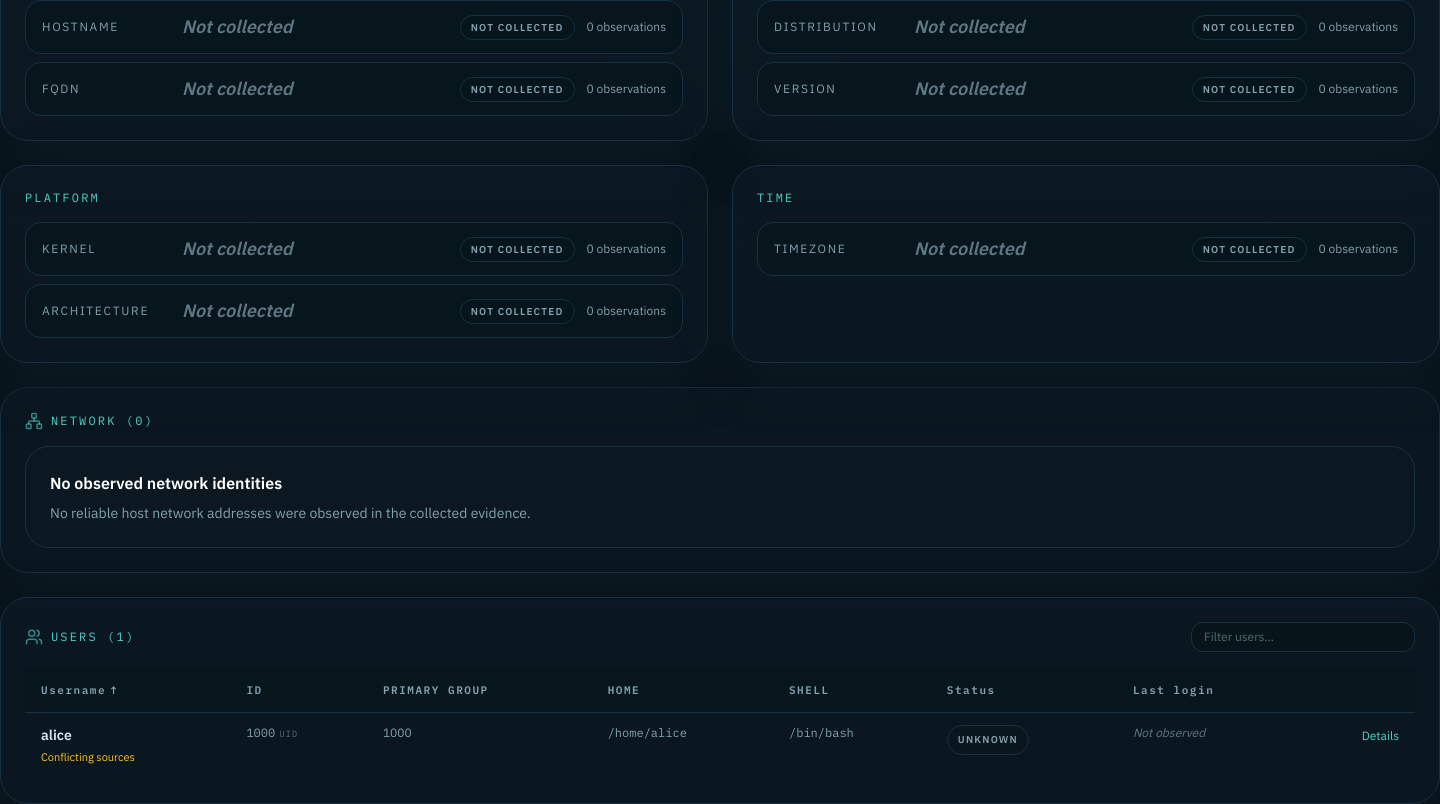
HostInformationPage › User Inventory › expands to show secondary groups and per-field provenance, with conflicts surfaced not hidden
(page scrolled)
Expected: the row with test id "user-row" is shown, [25,712,1415,779]
Expected: the text "Conflicting sources" is shown, [41,750,135,764]
Click the button with test id "user-expand-toggle". click: x=1380, y=736
box: [1362,728,1399,744]
(page scrolled)
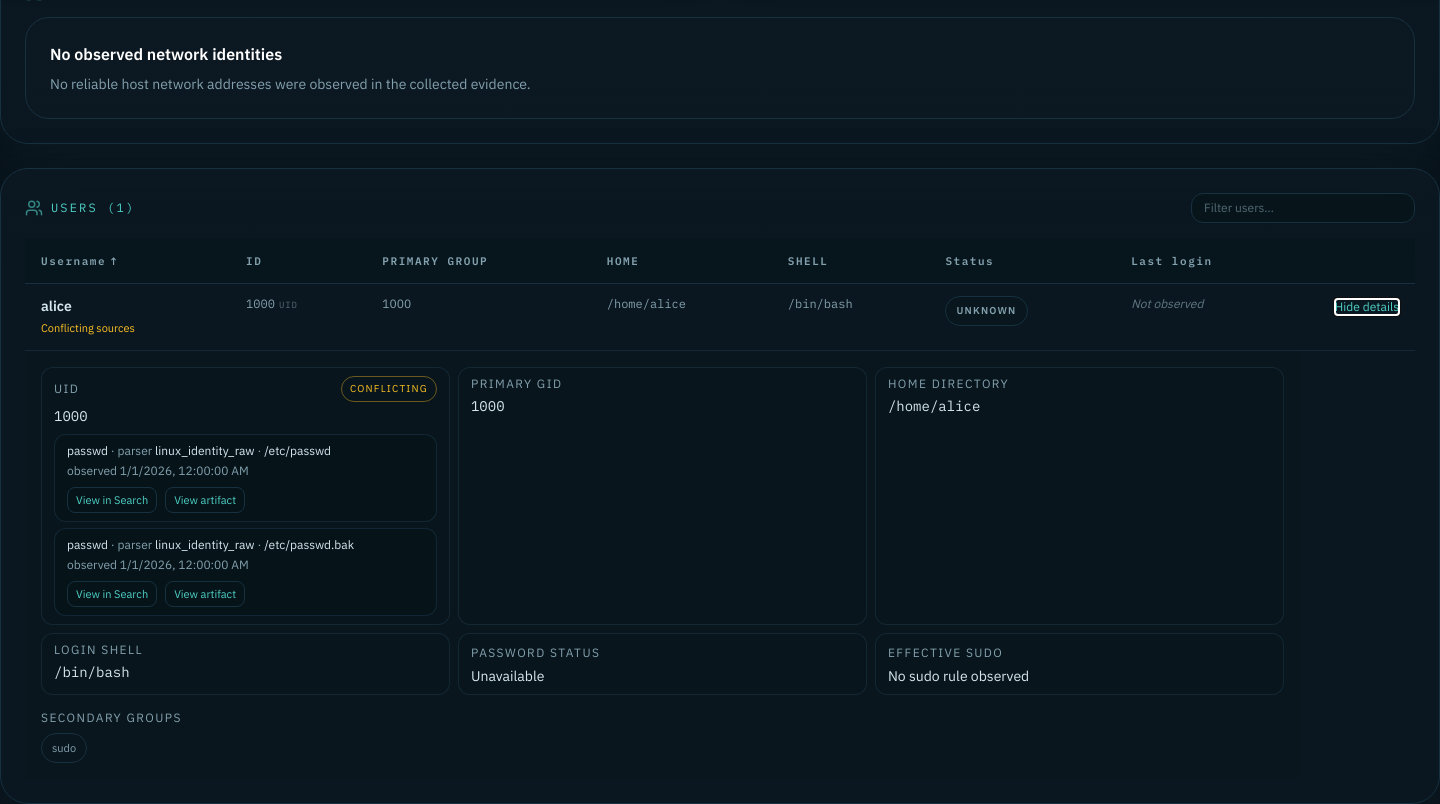
Now the element with test id "user-secondary-groups" reads "sudo", box [52,741,76,755]
Now the number of elements with test id "user-observation" is 2, box [54,434,437,522]; [54,528,437,616]
